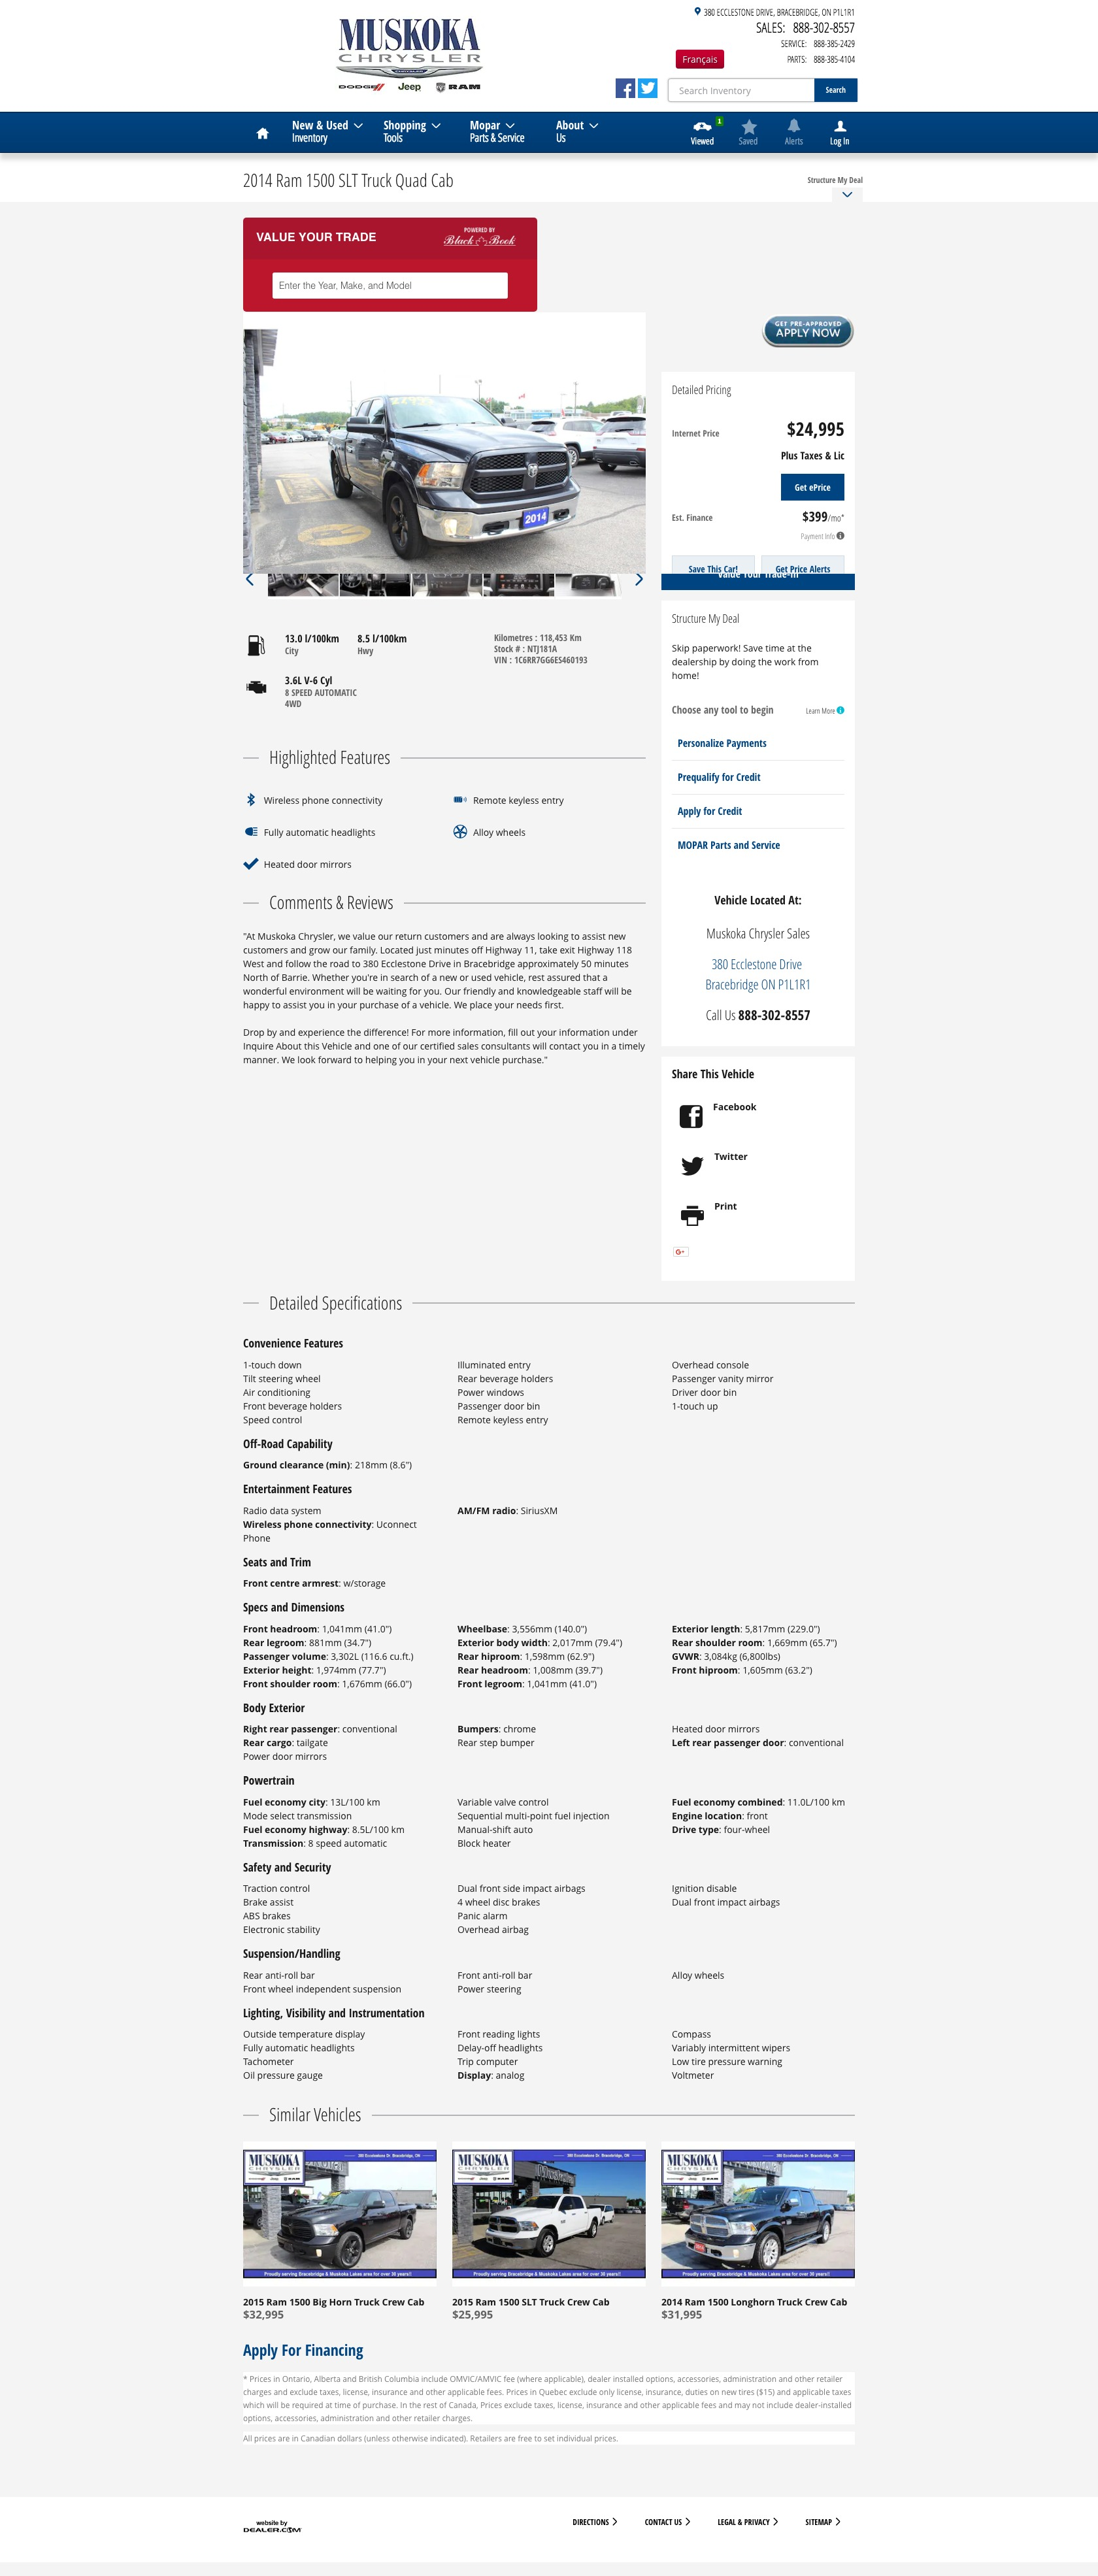car: (634, 570, 644, 588)
